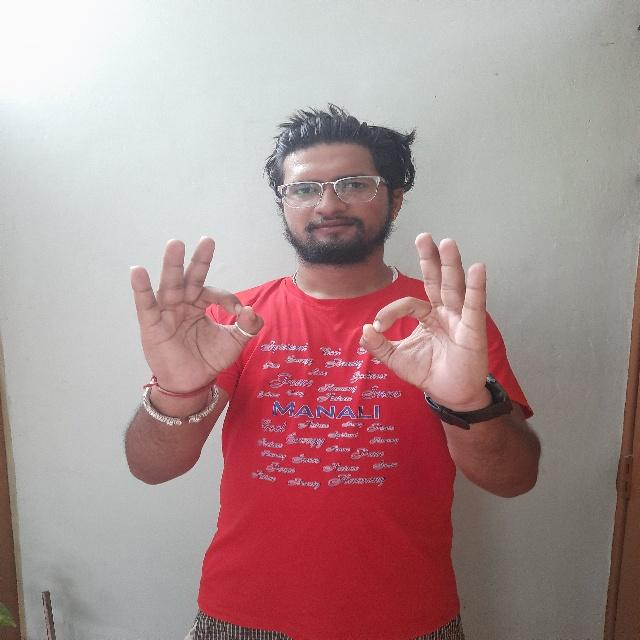Okay: (364, 226, 503, 424), (120, 236, 266, 407)
